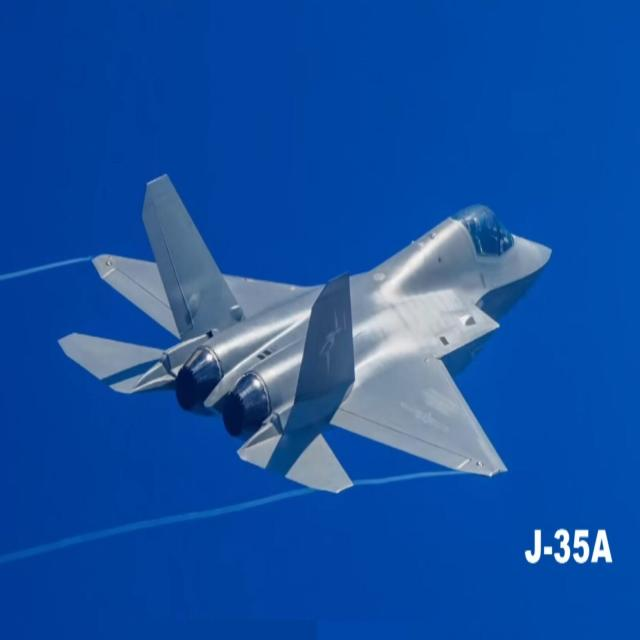jet: (12, 126, 611, 586)
